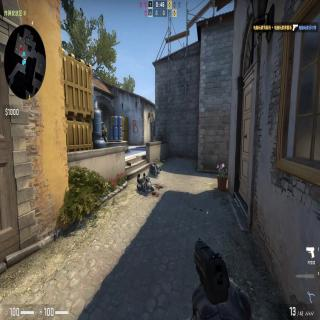T-Head: (101, 122, 105, 129)
